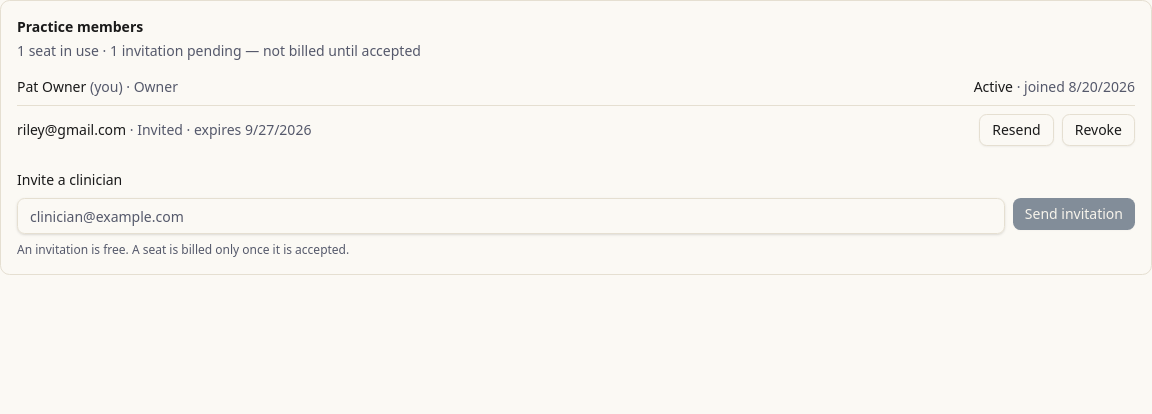
PracticeRoster › resends an invitation with a fresh key and shows its link
Click the button with aria-label "Resend invitation" at (1017, 130), box [979,114,1054,146]
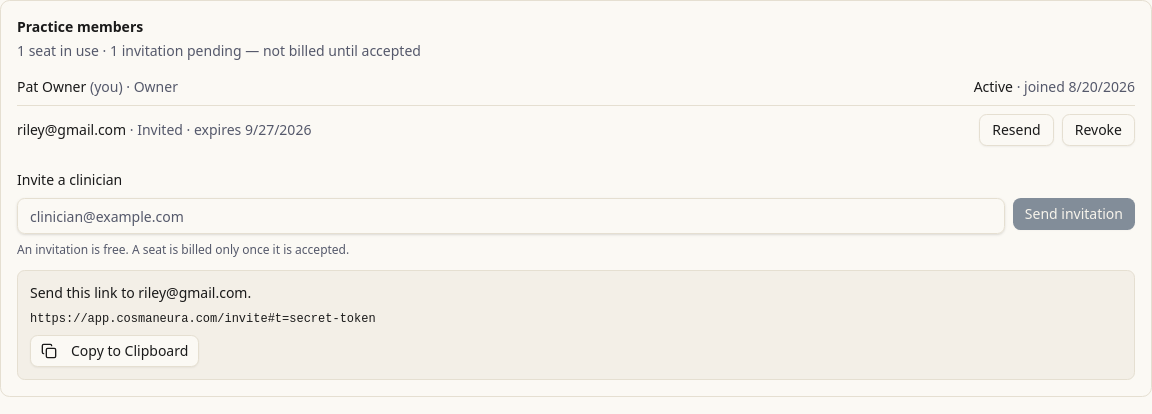
Expected: the text "Send this link to riley@gmail.com." is shown, [30,283,251,302]
